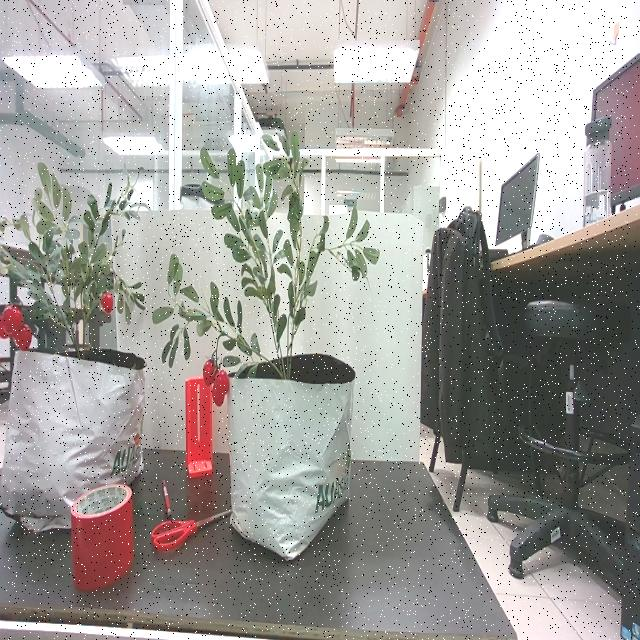Soilbag: (225, 354, 356, 564), (0, 351, 147, 535)
Tomato: (0, 305, 36, 352), (203, 360, 229, 407)
plant: (160, 129, 380, 408), (0, 163, 149, 359)
